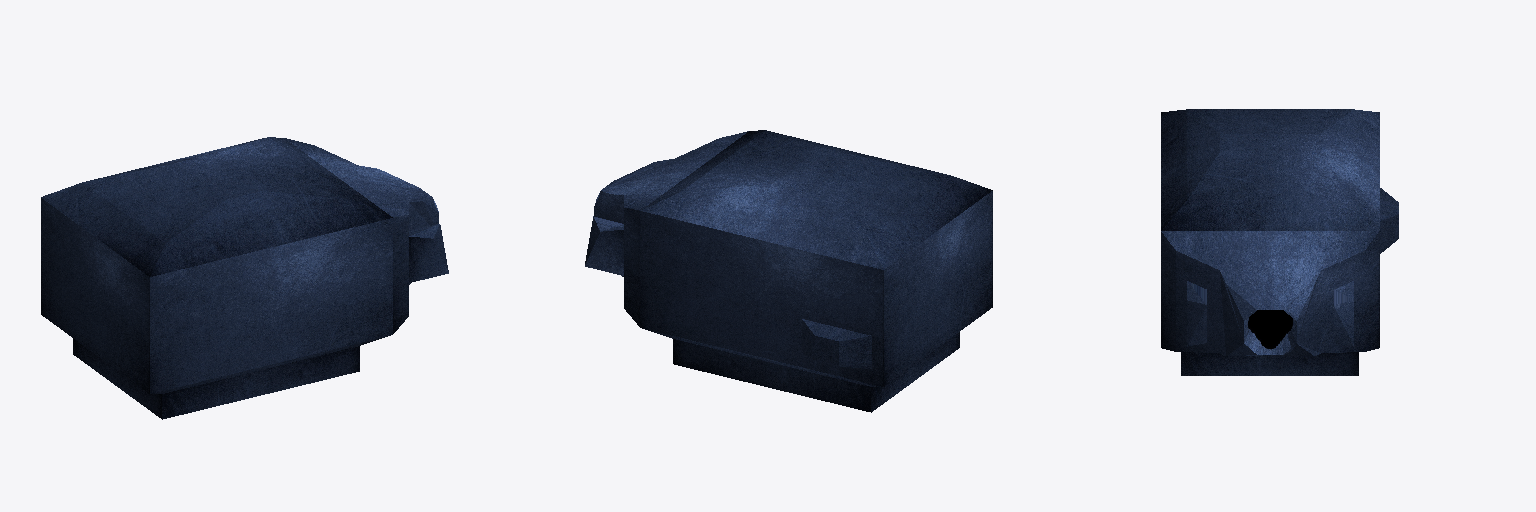
3 renders of one model, left to right at view 1: azimuth 30°, elevation 25°; view 2: azimuth 150°, elevation 25°; view 3: azimuth 270°, elevation 25°, orthographic.
Visible parts, largest first — view 1: pCube6; view 2: pCube6; view 3: pCube6.
Part boxes in pixels (x1,y1,x2,y2): pCube6: (41, 137, 448, 419); pCube6: (585, 130, 992, 412); pCube6: (1161, 109, 1398, 375).
Bounding box in the file's own units: 56.81 × 30.39 × 35.29.
Materials: 1 (1 with a texture image).